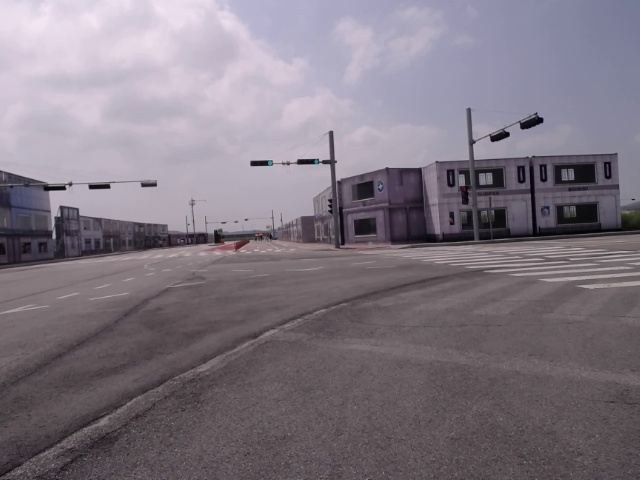straight_green_4: (254, 160, 274, 167), (297, 159, 321, 164)
